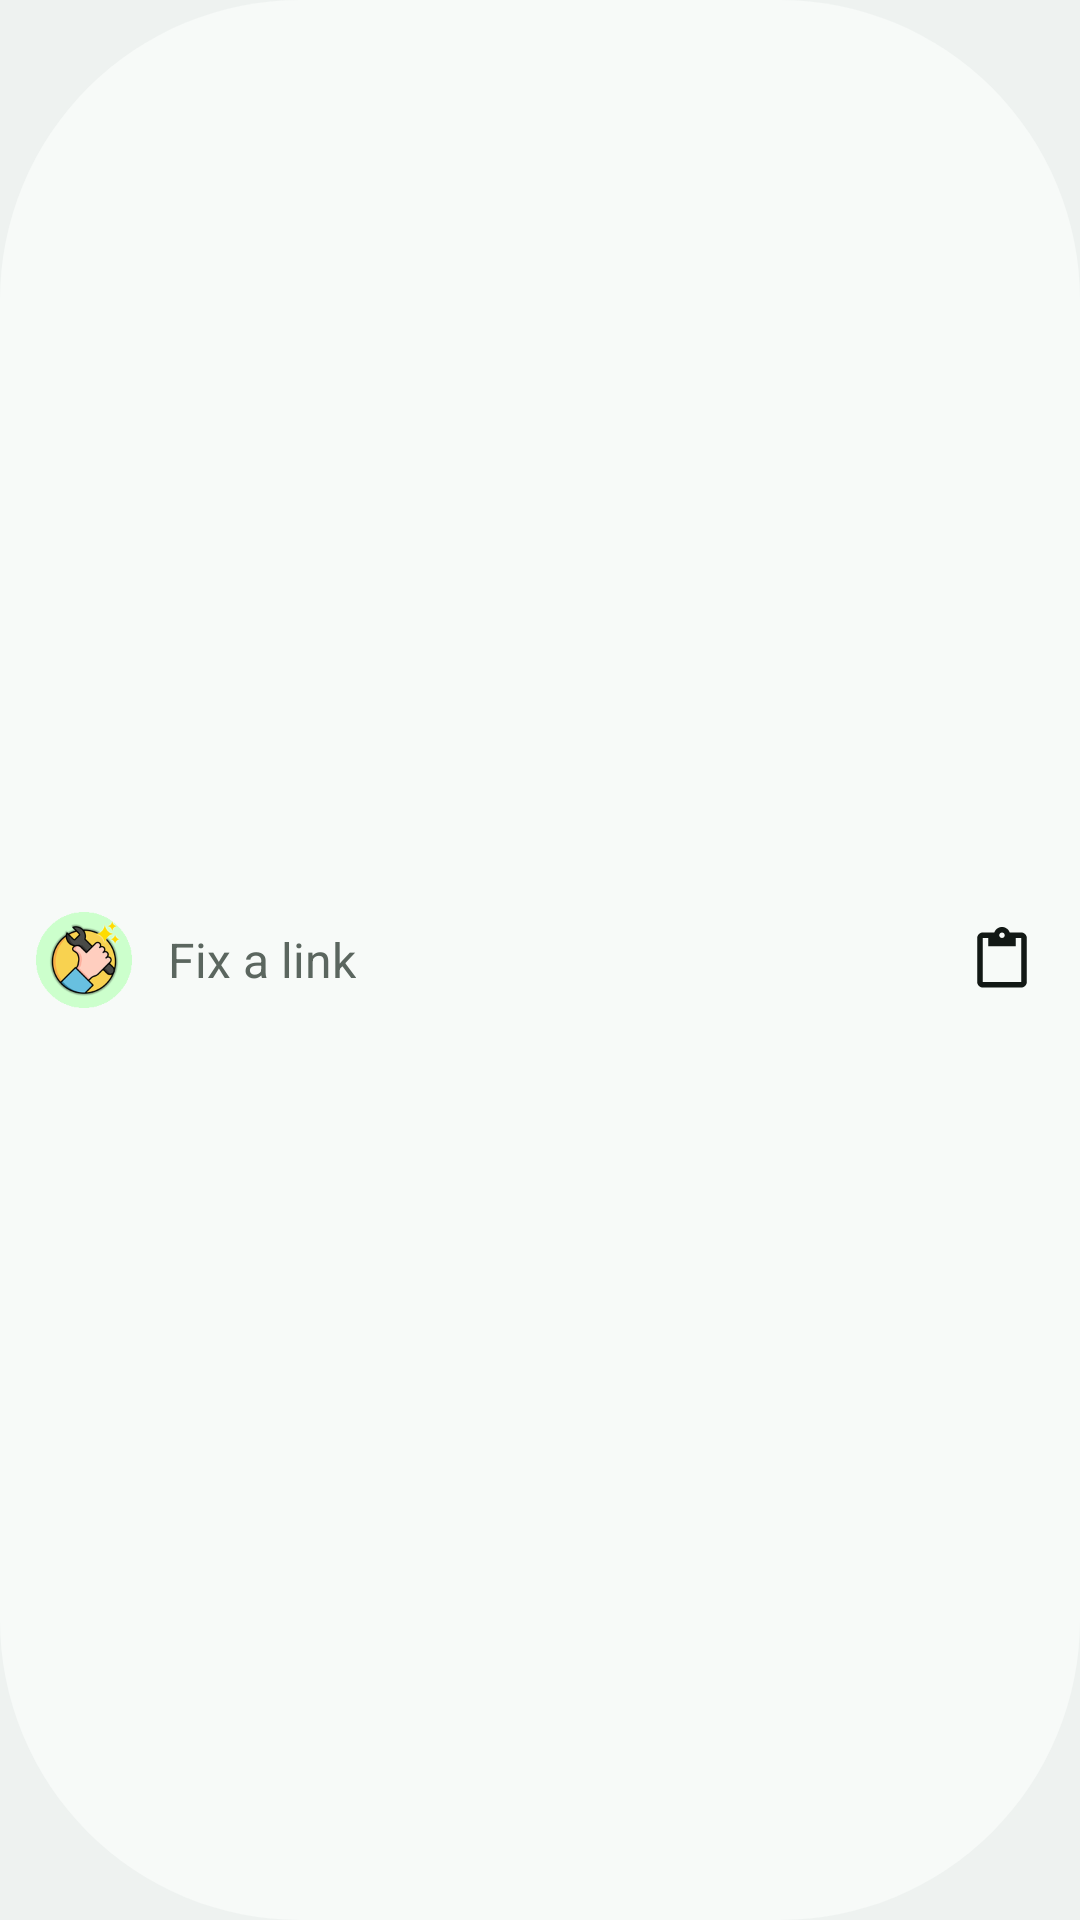

Icon bounding boxes for this 1080x1920 phone screenshot, format detection(x1, y1, x2, y2):
Fix copied link: detection(977, 927, 1027, 988)
